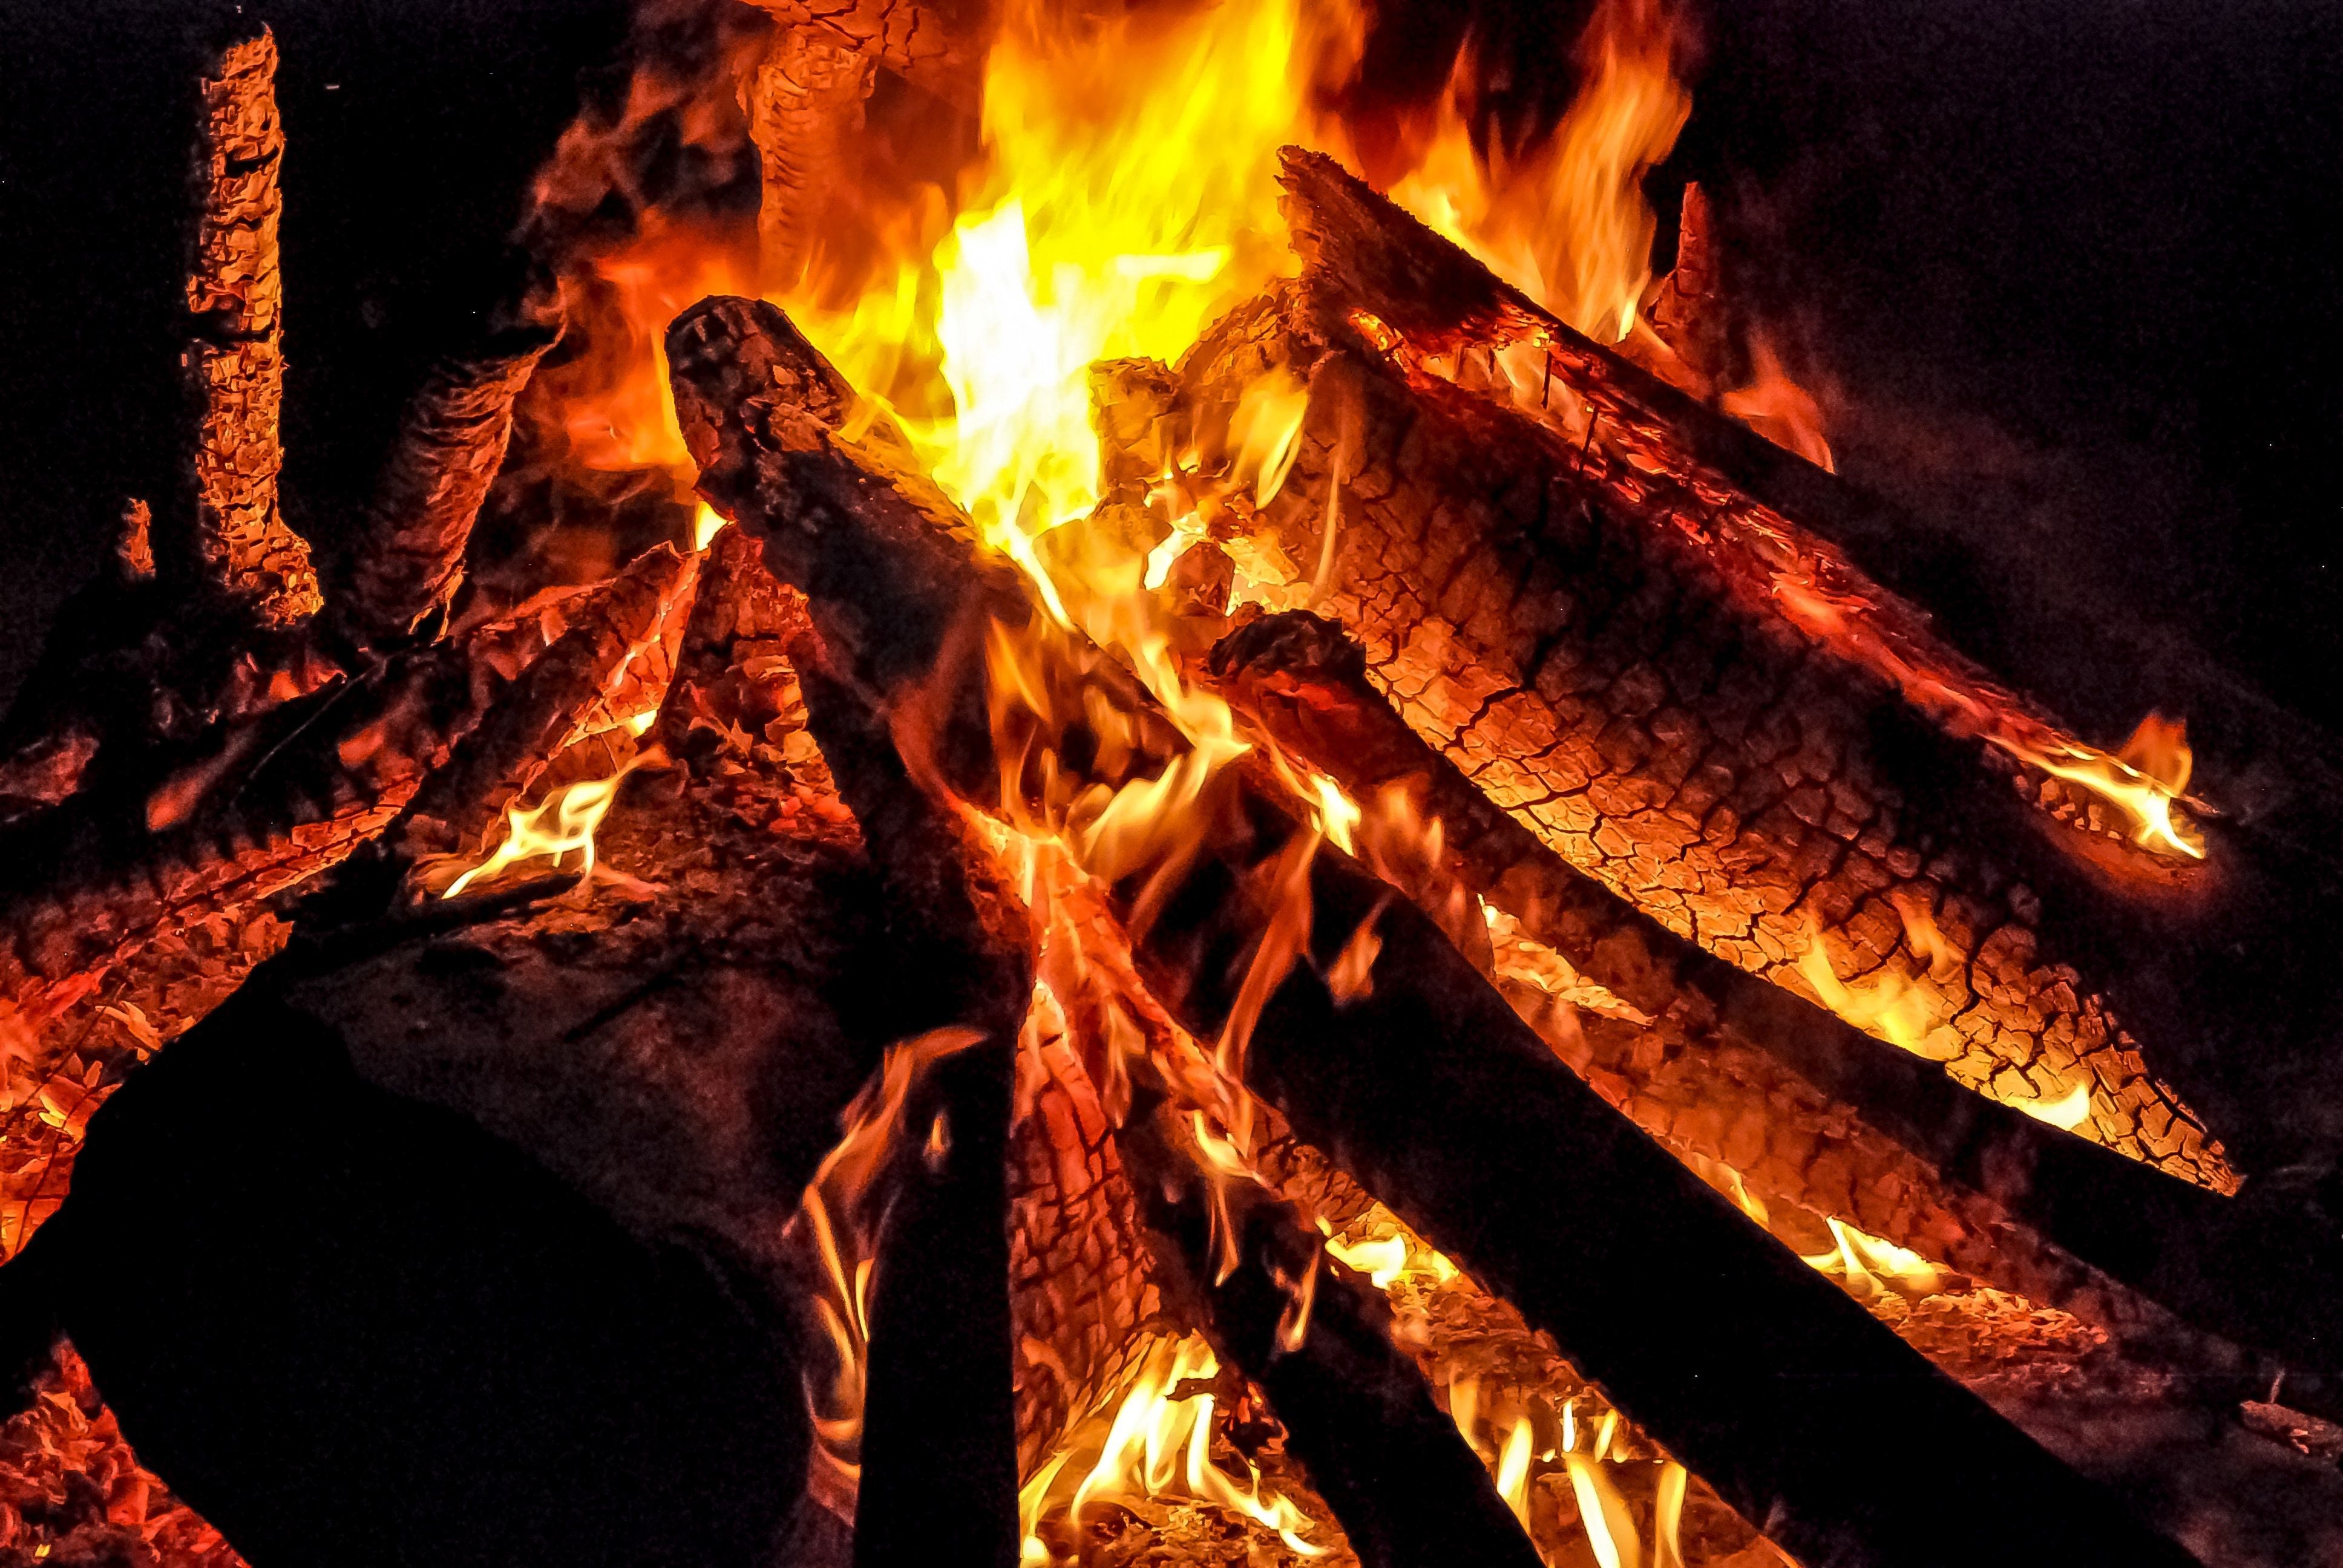fire: (481, 12, 1993, 1473)
